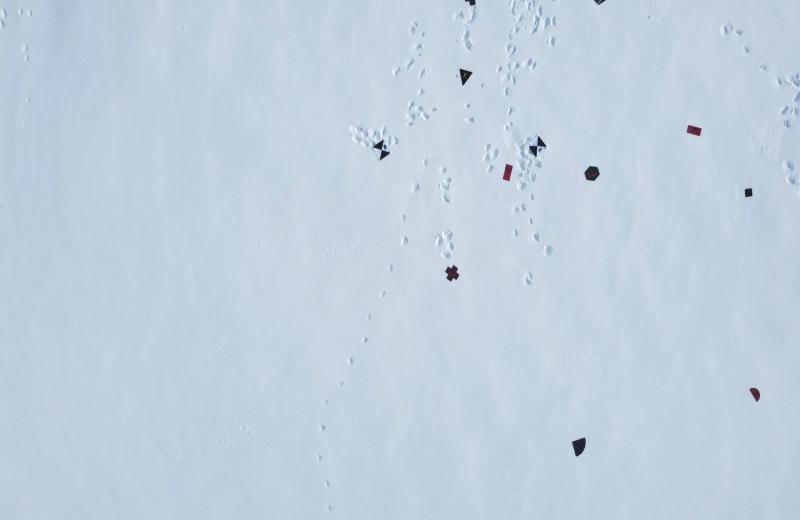Cross: (444, 265, 461, 283), (463, 0, 480, 7)
Hexagon: (583, 165, 600, 183)
Pentagon: (592, 0, 608, 7)
Quarter Circle: (570, 438, 587, 456)
Rectangle: (500, 163, 516, 182), (686, 124, 703, 139)
Semi Circle: (749, 385, 760, 403)
Square: (743, 188, 753, 199)
Triangle: (458, 67, 474, 88)
